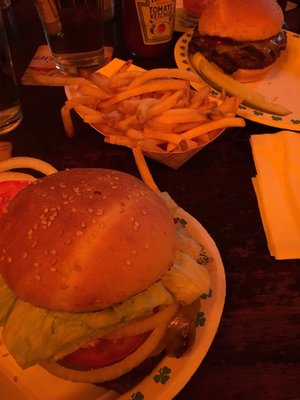pizza: (33, 0, 107, 75), (0, 0, 24, 137)
soup: (187, 0, 289, 74)
